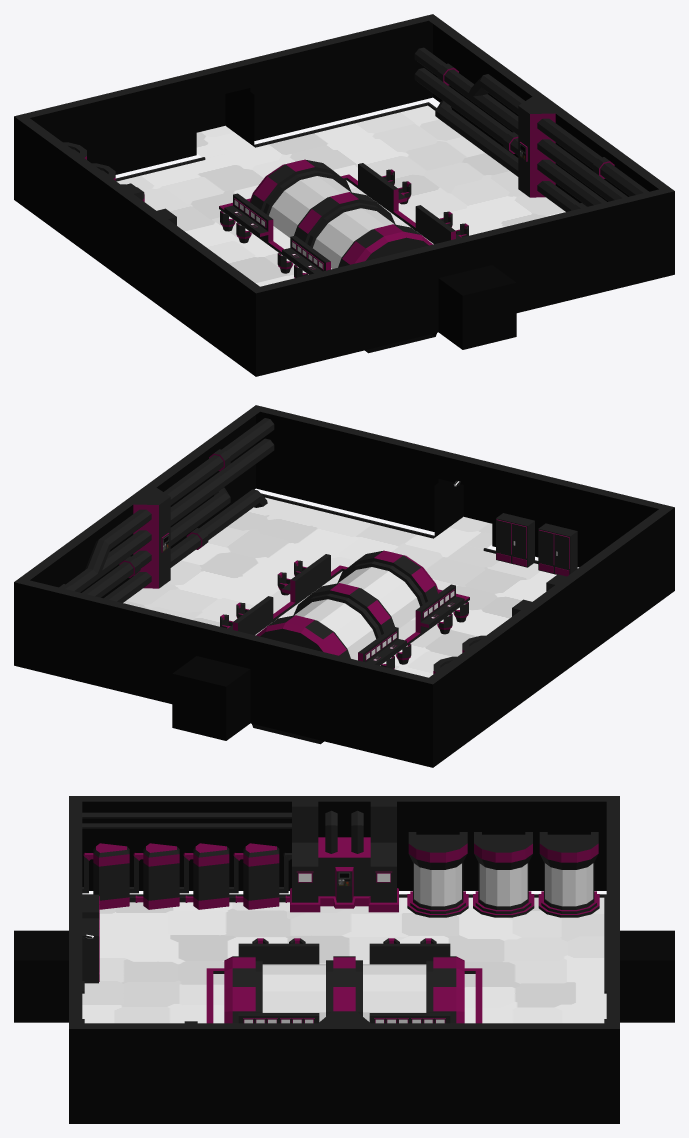
The model's file is Life_Support_1x1x2.fbx.
The picture shows the model from 3 angles, top to bottom: view 1: azimuth 30°, elevation 25°; view 2: azimuth 150°, elevation 25°; view 3: azimuth 270°, elevation 25°; orthographic projection. The views are drawn at different scales.
Visible parts, largest first — view 1: Life_Support_1x1x2; view 2: Life_Support_1x1x2; view 3: Life_Support_1x1x2.
Part boxes in pixels (<box>): Life_Support_1x1x2: <box>14,14,674,376</box>; Life_Support_1x1x2: <box>14,405,674,767</box>; Life_Support_1x1x2: <box>14,796,674,1123</box>.
Bounding box in the file's own units: 42 × 50.4 × 14.29.
